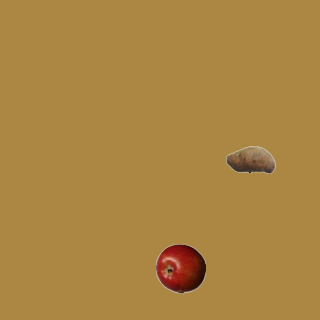Apple Braeburn: (155, 243, 205, 293)
Potato Sweet: (225, 134, 275, 184)
